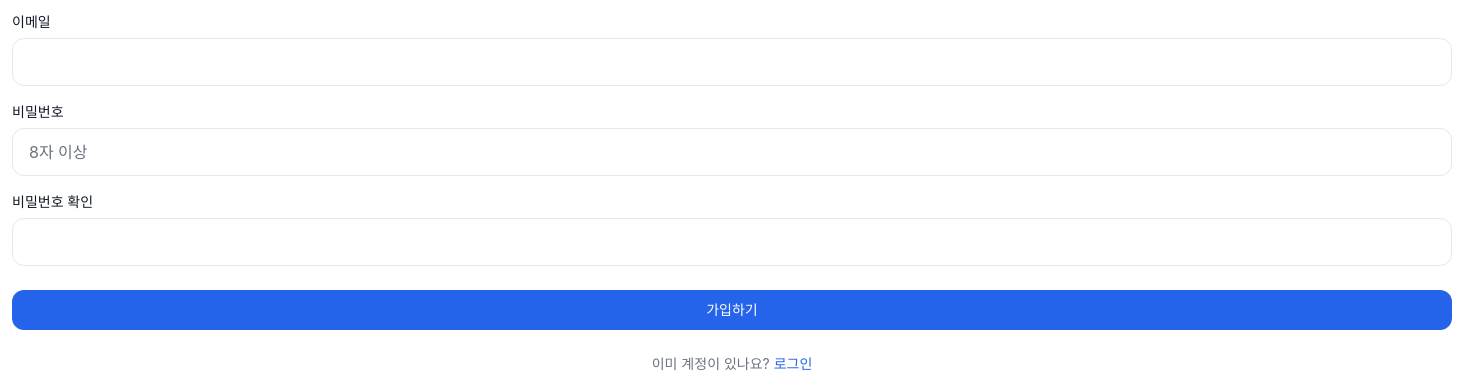
Test: SignupForm › 서버가 가입 요청을 받아들이면 signup_accepted 이벤트를 보낸다
Type "user@example.com" into the field labelled "이메일" at (732, 62), box [12,38,1452,86]
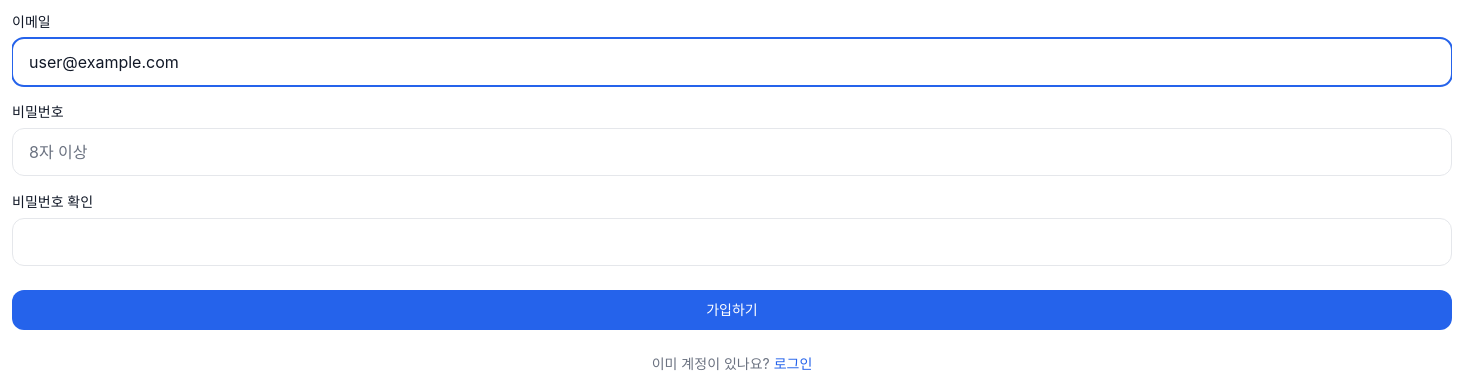
Type "password123" into the password field labelled "비밀번호" at (732, 152), box [12,128,1452,176]
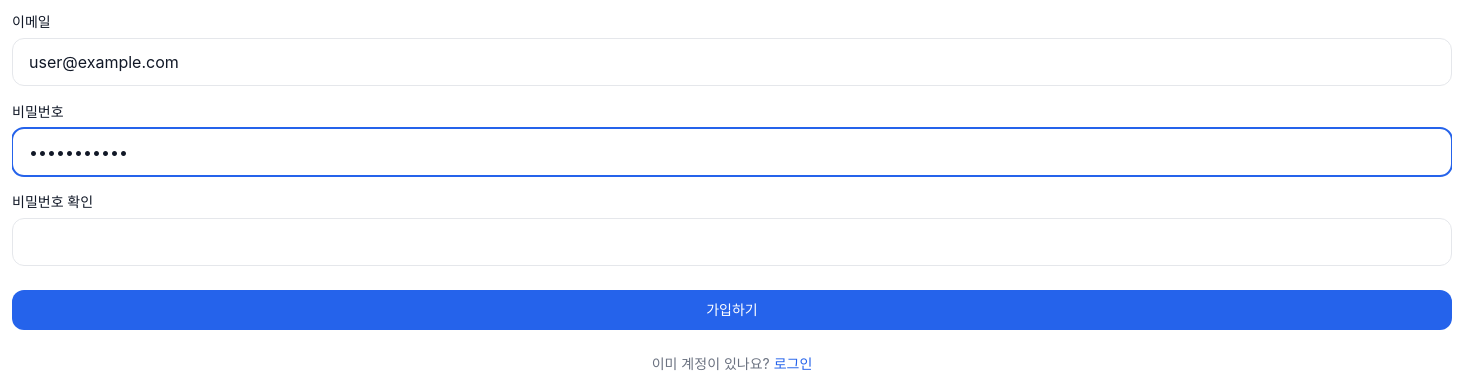
Type "password123" into the password field labelled "비밀번호 확인" at (732, 242), box [12,218,1452,266]
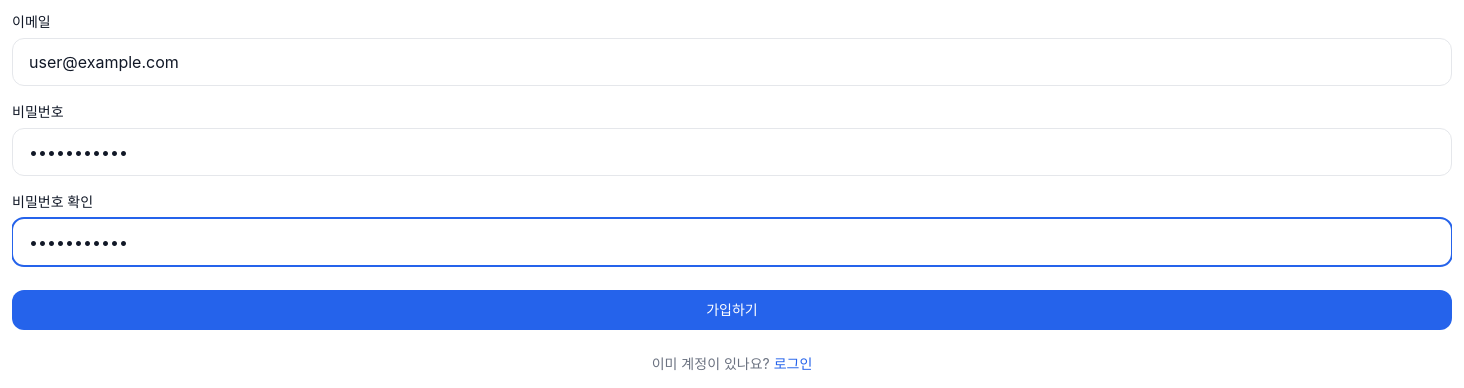
Click the button "가입하기" at (732, 310), box [12,290,1452,330]
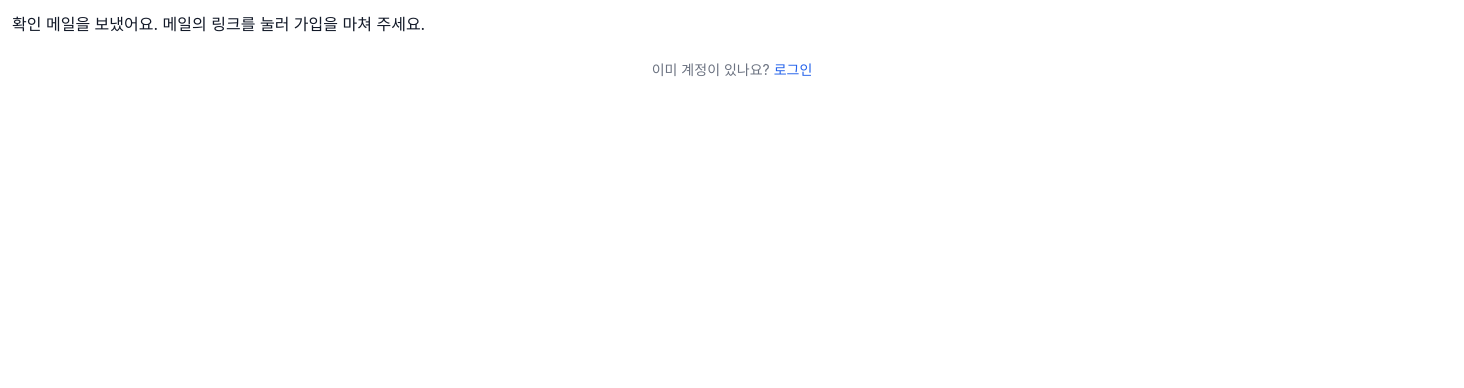
Expected: the message "확인 메일을 보냈어요. 메일의 링크를 눌러 가입을 마쳐 주세요." is shown, [12,14,425,34]
